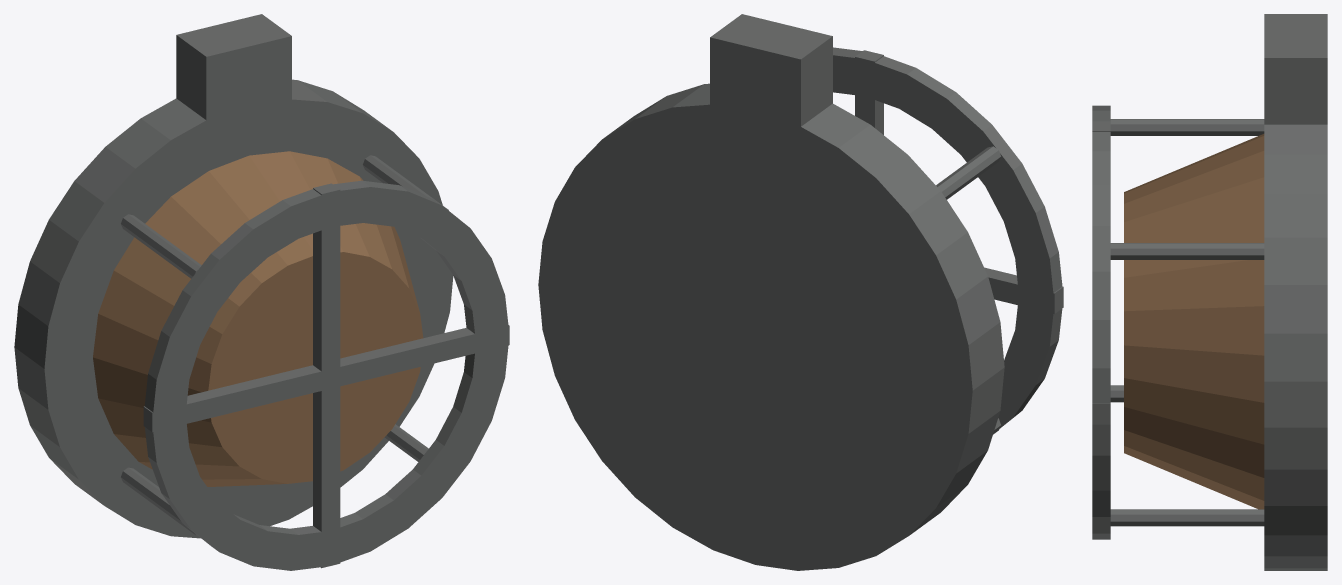
The model's file is bulkhead-light.glb.
3 views of the same model, side by side, from view 1: azimuth 30°, elevation 25°; view 2: azimuth 150°, elevation 25°; view 3: azimuth 270°, elevation 25° (orthographic). The views are drawn at different scales.
Visible parts, largest first — view 1: metal, shade; view 2: metal; view 3: metal, shade.
Boxes of the visible parts, bbox=[...] form: metal: bbox=[14, 14, 509, 570]; shade: bbox=[93, 151, 423, 486]; metal: bbox=[538, 14, 1063, 570]; metal: bbox=[1092, 14, 1327, 570]; shade: bbox=[1124, 134, 1264, 509].
Bounding box in the file's own units: 0.22 × 0.25 × 0.104.
